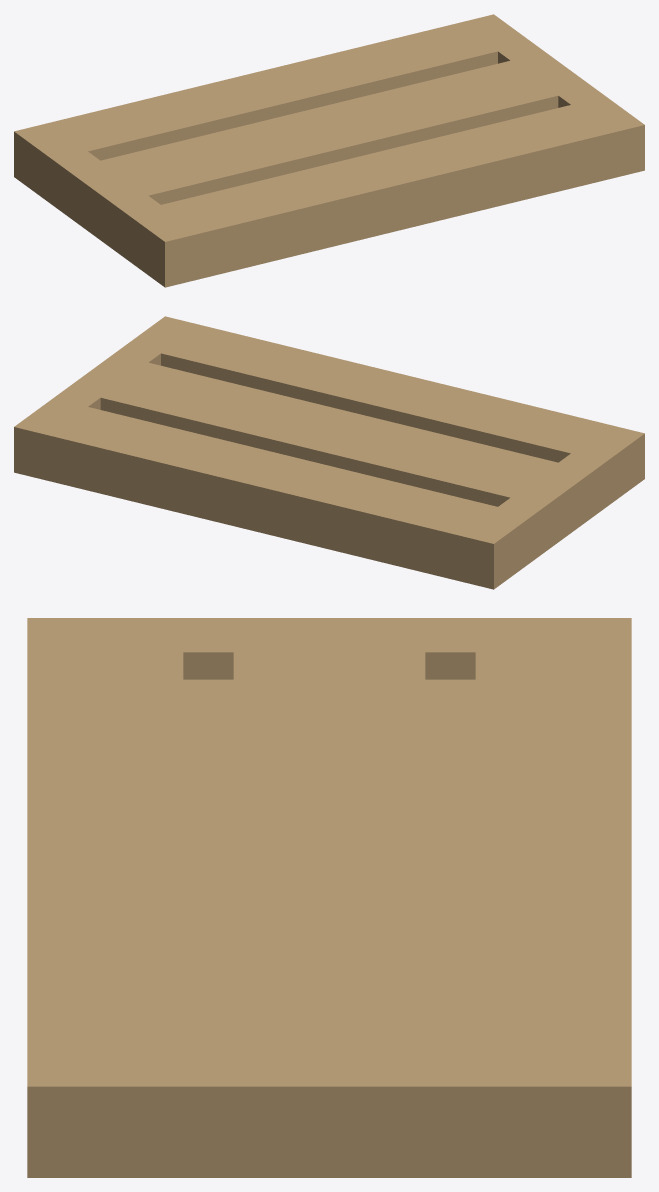
Rendered from prop-windchest-panel.fbx.
3 renders of one model, top to bottom at view 1: azimuth 30°, elevation 25°; view 2: azimuth 150°, elevation 25°; view 3: azimuth 270°, elevation 25°, orthographic. The views are drawn at different scales.
Visible parts, largest first — view 1: prop-windchest-panel; view 2: prop-windchest-panel; view 3: prop-windchest-panel.
Boxes of the visible parts, box(x1,y1,x2,y2) form: prop-windchest-panel: box(14, 14, 644, 287); prop-windchest-panel: box(14, 316, 644, 589); prop-windchest-panel: box(27, 618, 631, 1177).
Bounding box in the file's own units: 55 × 5 × 30.
